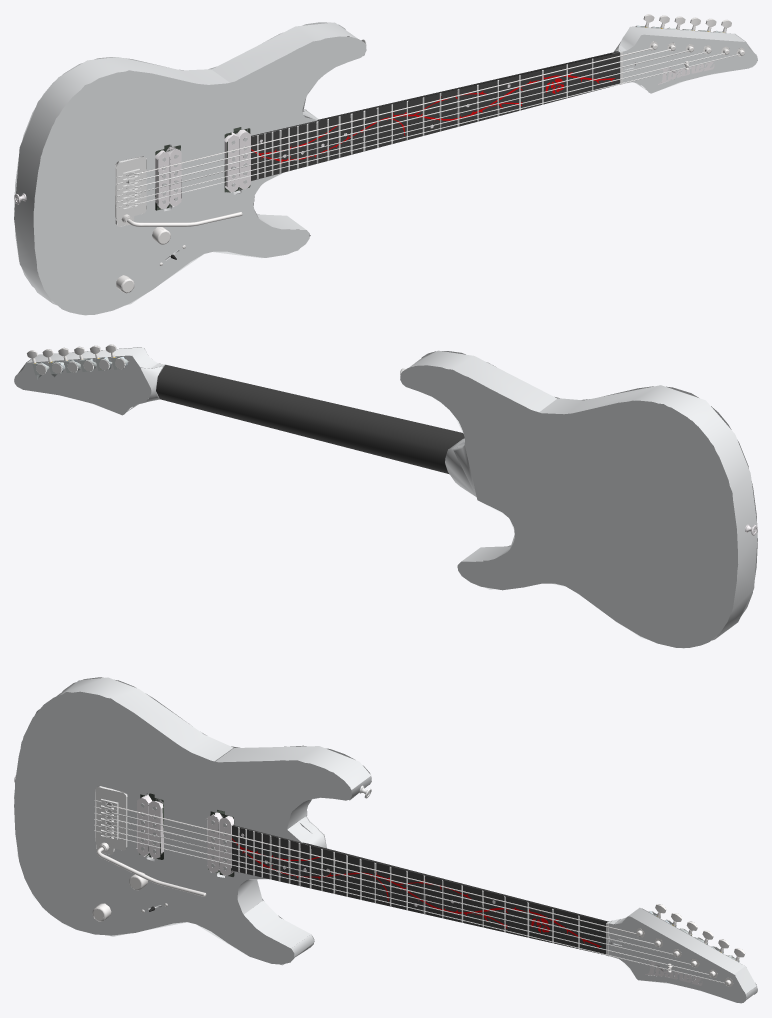
File: rose-neck-guitar.glb
3 renders of one model, top to bottom at view 1: azimuth 30°, elevation 25°; view 2: azimuth 150°, elevation 25°; view 3: azimuth 330°, elevation 25°, orthographic.
Visible parts, largest first — view 1: Object_7, Object_1, Object_27; view 2: Object_7, Object_1, Object_27; view 3: Object_7, Object_1, Object_27.
Boxes of the visible parts, box(x1,y1,x2,y2) form: Object_7: box(14, 22, 757, 315); Object_1: box(14, 25, 740, 259); Object_27: box(115, 14, 744, 293); Object_7: box(14, 347, 757, 648); Object_1: box(32, 356, 757, 535); Object_27: box(27, 344, 134, 363); Object_7: box(14, 677, 757, 1003); Object_1: box(14, 775, 739, 985); Object_27: box(92, 786, 744, 986).
Size of the model in its own units: 1 by 0.3107 by 0.072.
Materials: 3 (3 with a texture image).
